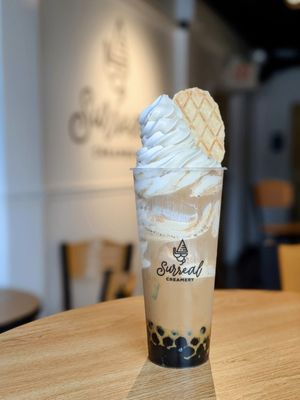curry: (1, 289, 300, 399)
pasta: (61, 238, 138, 312)
soup: (131, 86, 228, 370)
